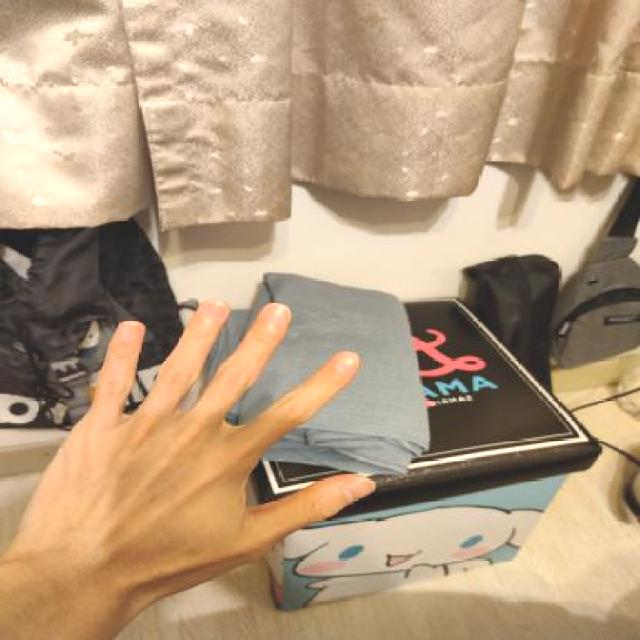no_glove: (2, 278, 386, 638)
